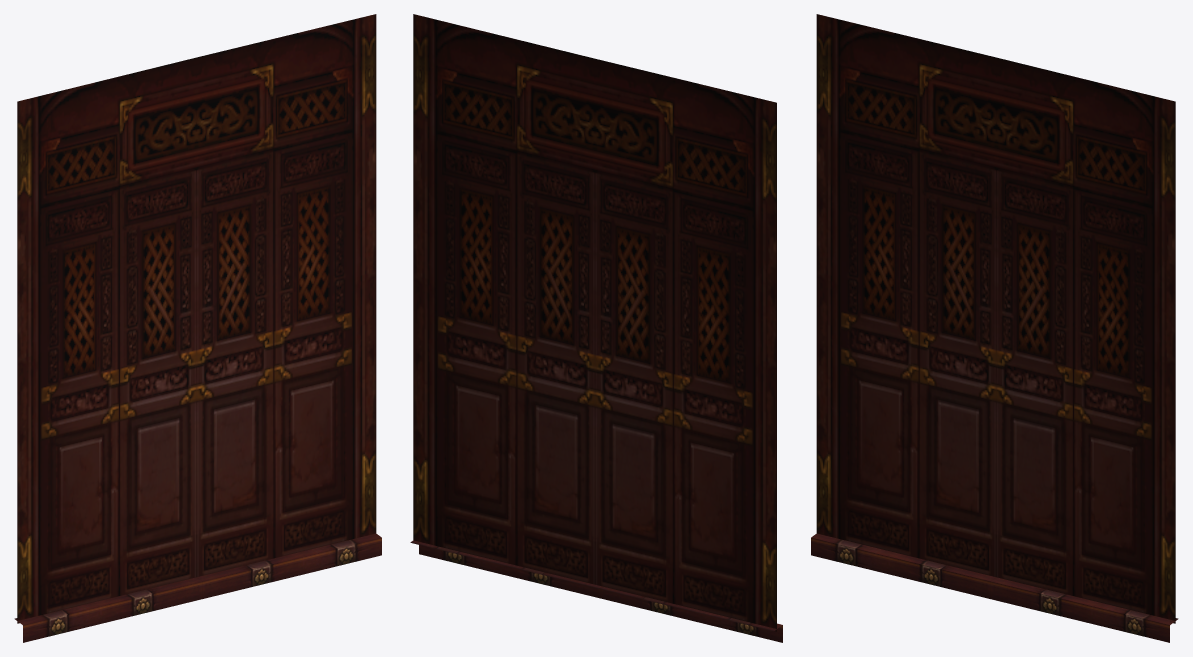
File: HYC_chengmen_01.FBX
The picture shows the model from 3 angles, left to right: view 1: azimuth 30°, elevation 25°; view 2: azimuth 150°, elevation 25°; view 3: azimuth 330°, elevation 25°; orthographic projection.
Parts seen in each view (by area): view 1: HYC_chengmen_01; view 2: HYC_chengmen_01; view 3: HYC_chengmen_01.
Boxes of the visible parts, x1,y1,x2,y2 form: HYC_chengmen_01: (14, 14, 381, 642); HYC_chengmen_01: (410, 14, 782, 642); HYC_chengmen_01: (811, 14, 1178, 642).
Bounding box in the file's own units: 547 × 783 × 23.2.
